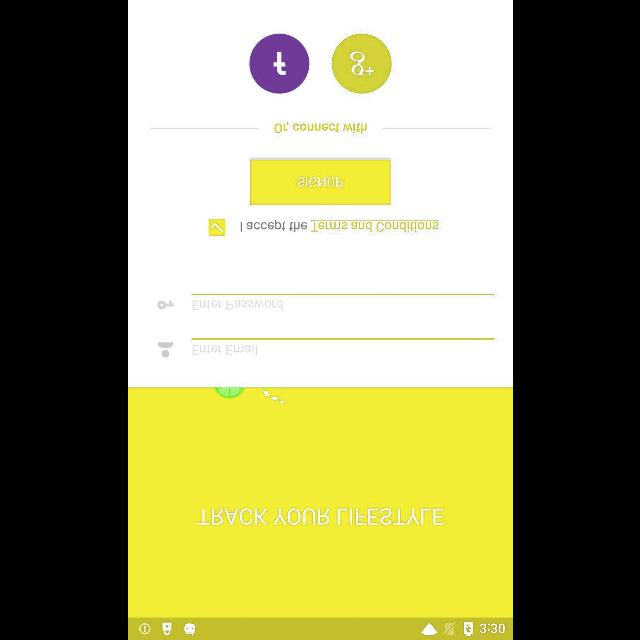checkbox: (208, 218, 225, 236)
icon: (249, 34, 309, 94), (331, 34, 391, 94), (158, 342, 172, 358)
image: (156, 300, 174, 310)
input: (191, 338, 494, 354), (191, 294, 494, 310)
text: (196, 508, 444, 526), (240, 220, 438, 232), (274, 122, 366, 134), (192, 300, 282, 310), (192, 345, 256, 355)
textbutton: (250, 160, 390, 204)
uppertaskbar: (128, 617, 512, 639)
